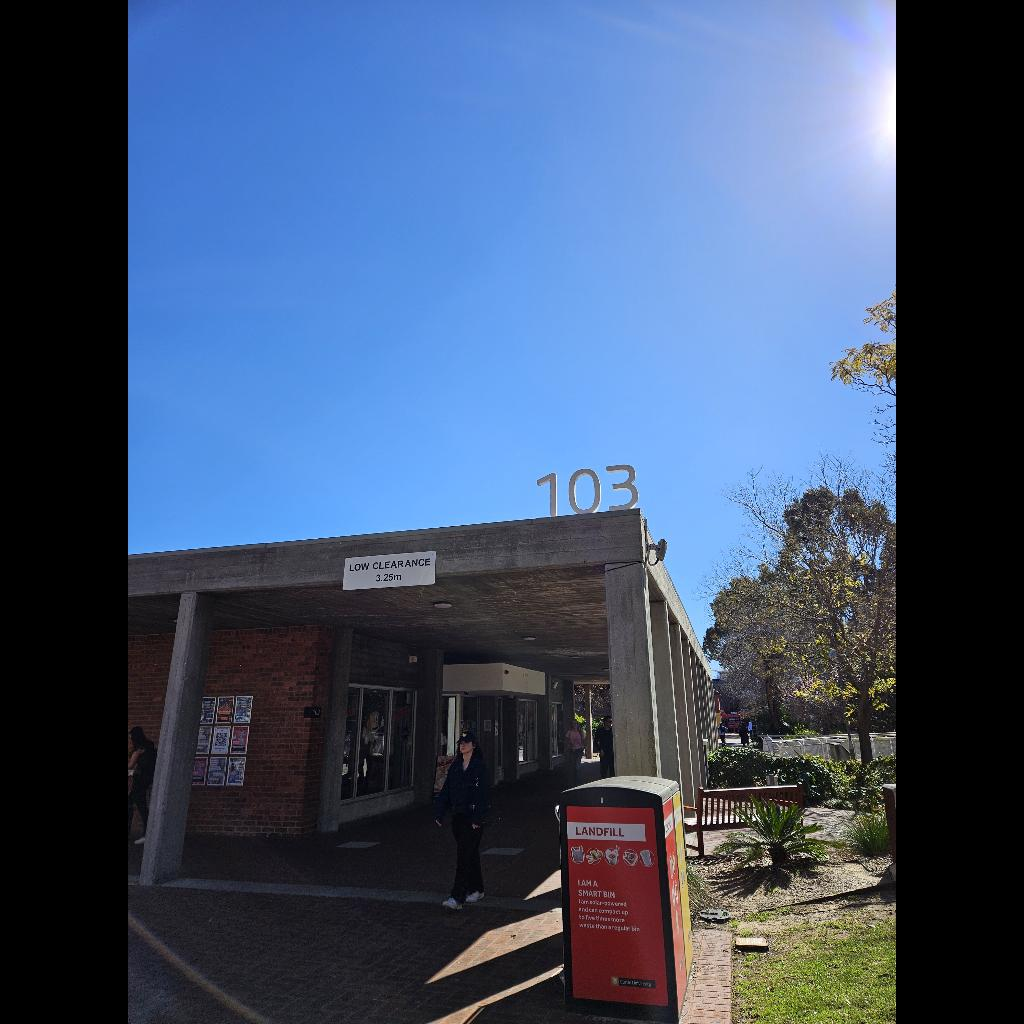BuildingCodes: (536, 464, 640, 518)
